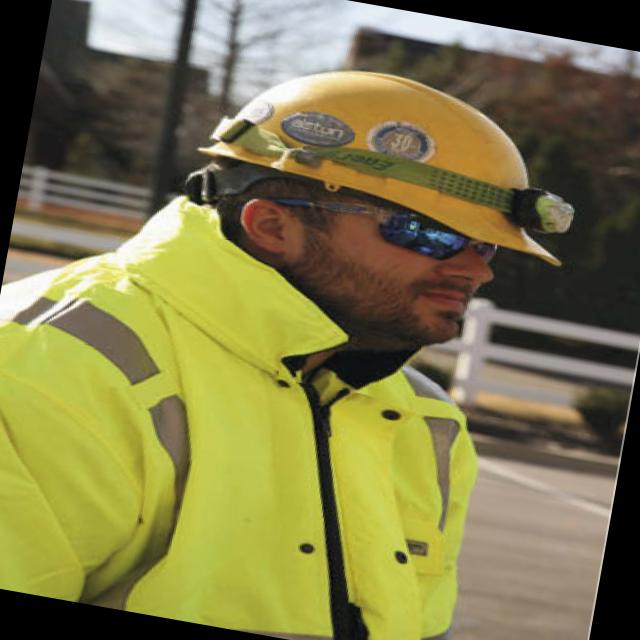helmet: (169, 40, 595, 276)
no-goggles: (286, 176, 512, 276)
vest: (0, 229, 525, 640)
